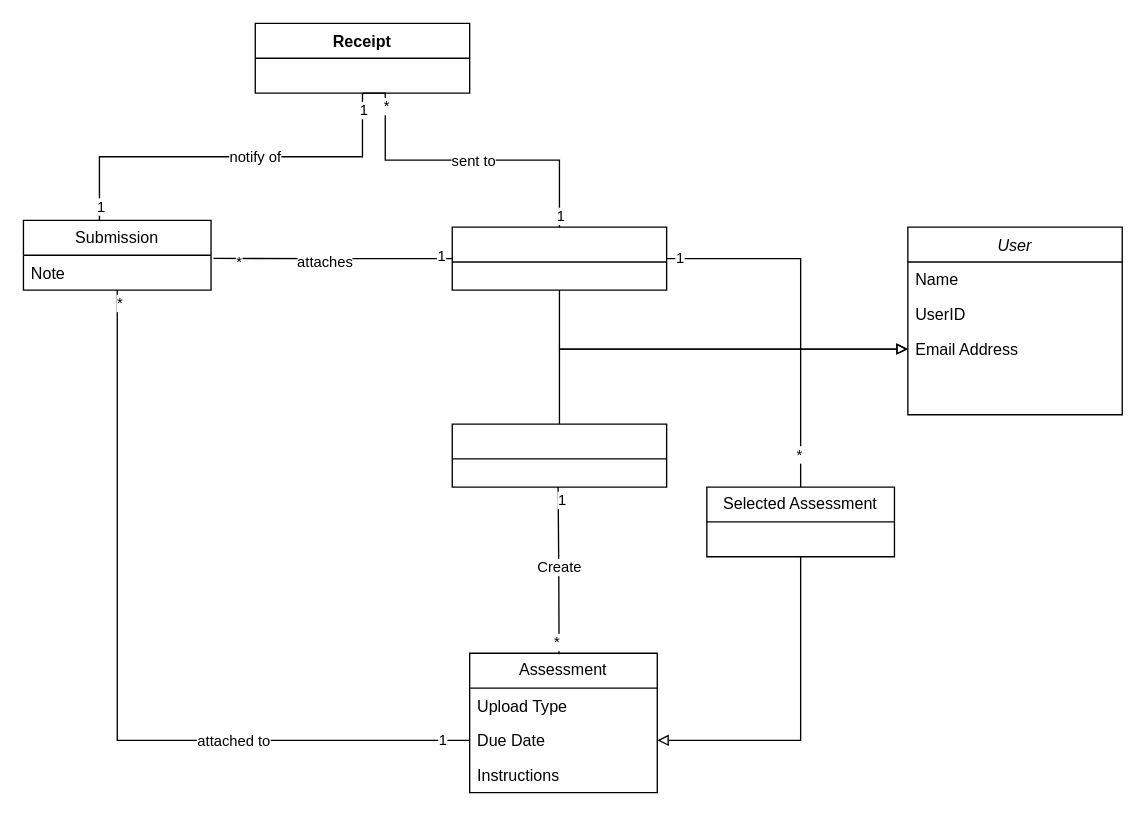
Some shapes in this 1146 by 820 pixel diagram are drawn without their labels. The centre of each missing label's shape, as x and y in pixels:
"Instructor" belongs at [559,455].
"Student" belongs at [559,258].
